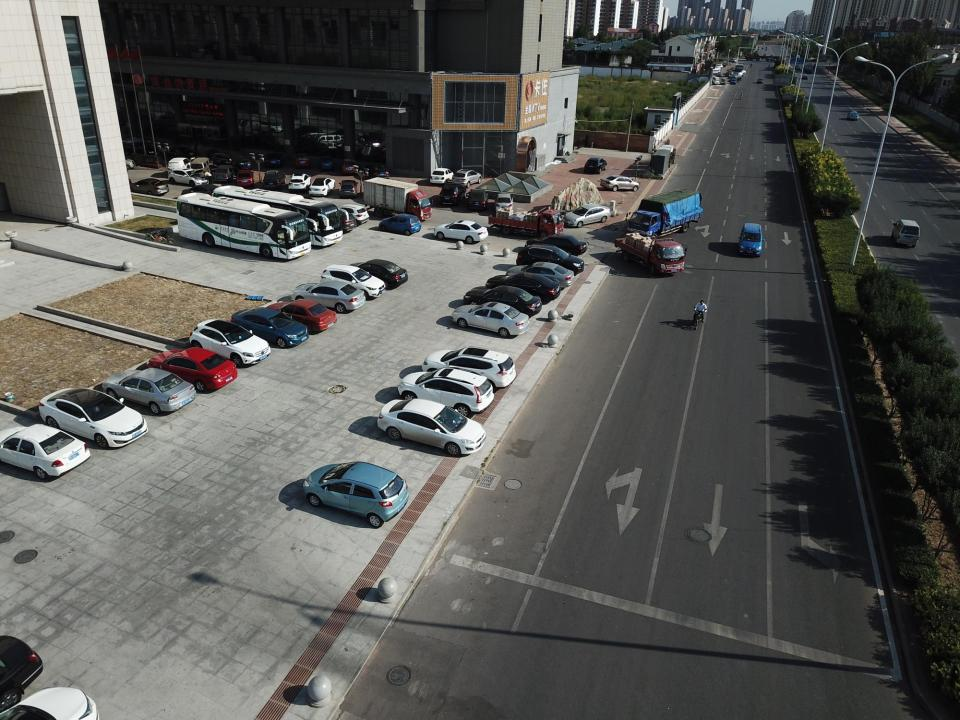bus: (176, 192, 312, 260), (211, 185, 344, 246)
car: (302, 461, 409, 528), (39, 387, 148, 448), (378, 398, 487, 456), (0, 424, 90, 479), (397, 367, 494, 418), (103, 367, 196, 414), (422, 346, 516, 392), (189, 319, 271, 369), (147, 347, 237, 391), (231, 307, 309, 348), (452, 301, 530, 338), (265, 298, 337, 334), (290, 280, 366, 313), (463, 286, 542, 317), (321, 264, 386, 300), (486, 273, 560, 303), (516, 243, 584, 275), (346, 259, 408, 290), (506, 262, 574, 290), (524, 234, 588, 256), (434, 220, 489, 244), (563, 203, 611, 227), (322, 207, 357, 234), (379, 214, 421, 236), (330, 204, 370, 226), (210, 152, 252, 171), (122, 141, 164, 160), (168, 168, 208, 187), (161, 146, 202, 164), (130, 178, 170, 196), (600, 175, 639, 192), (439, 182, 466, 206), (452, 169, 482, 187), (309, 178, 336, 197), (262, 170, 286, 190), (466, 189, 488, 210), (429, 168, 455, 185), (493, 193, 515, 213), (288, 173, 312, 191), (366, 162, 390, 180), (106, 156, 136, 170), (584, 158, 608, 174), (338, 180, 359, 198), (214, 165, 236, 182), (235, 170, 255, 187), (292, 153, 311, 170), (339, 159, 358, 175), (264, 153, 284, 168), (318, 155, 335, 172), (847, 110, 858, 121), (818, 58, 828, 62)
truck: (625, 187, 703, 243), (363, 177, 432, 222), (614, 233, 687, 274), (744, 52, 782, 62)
van: (738, 224, 765, 256), (891, 220, 920, 248), (167, 158, 193, 176), (190, 158, 214, 176)
